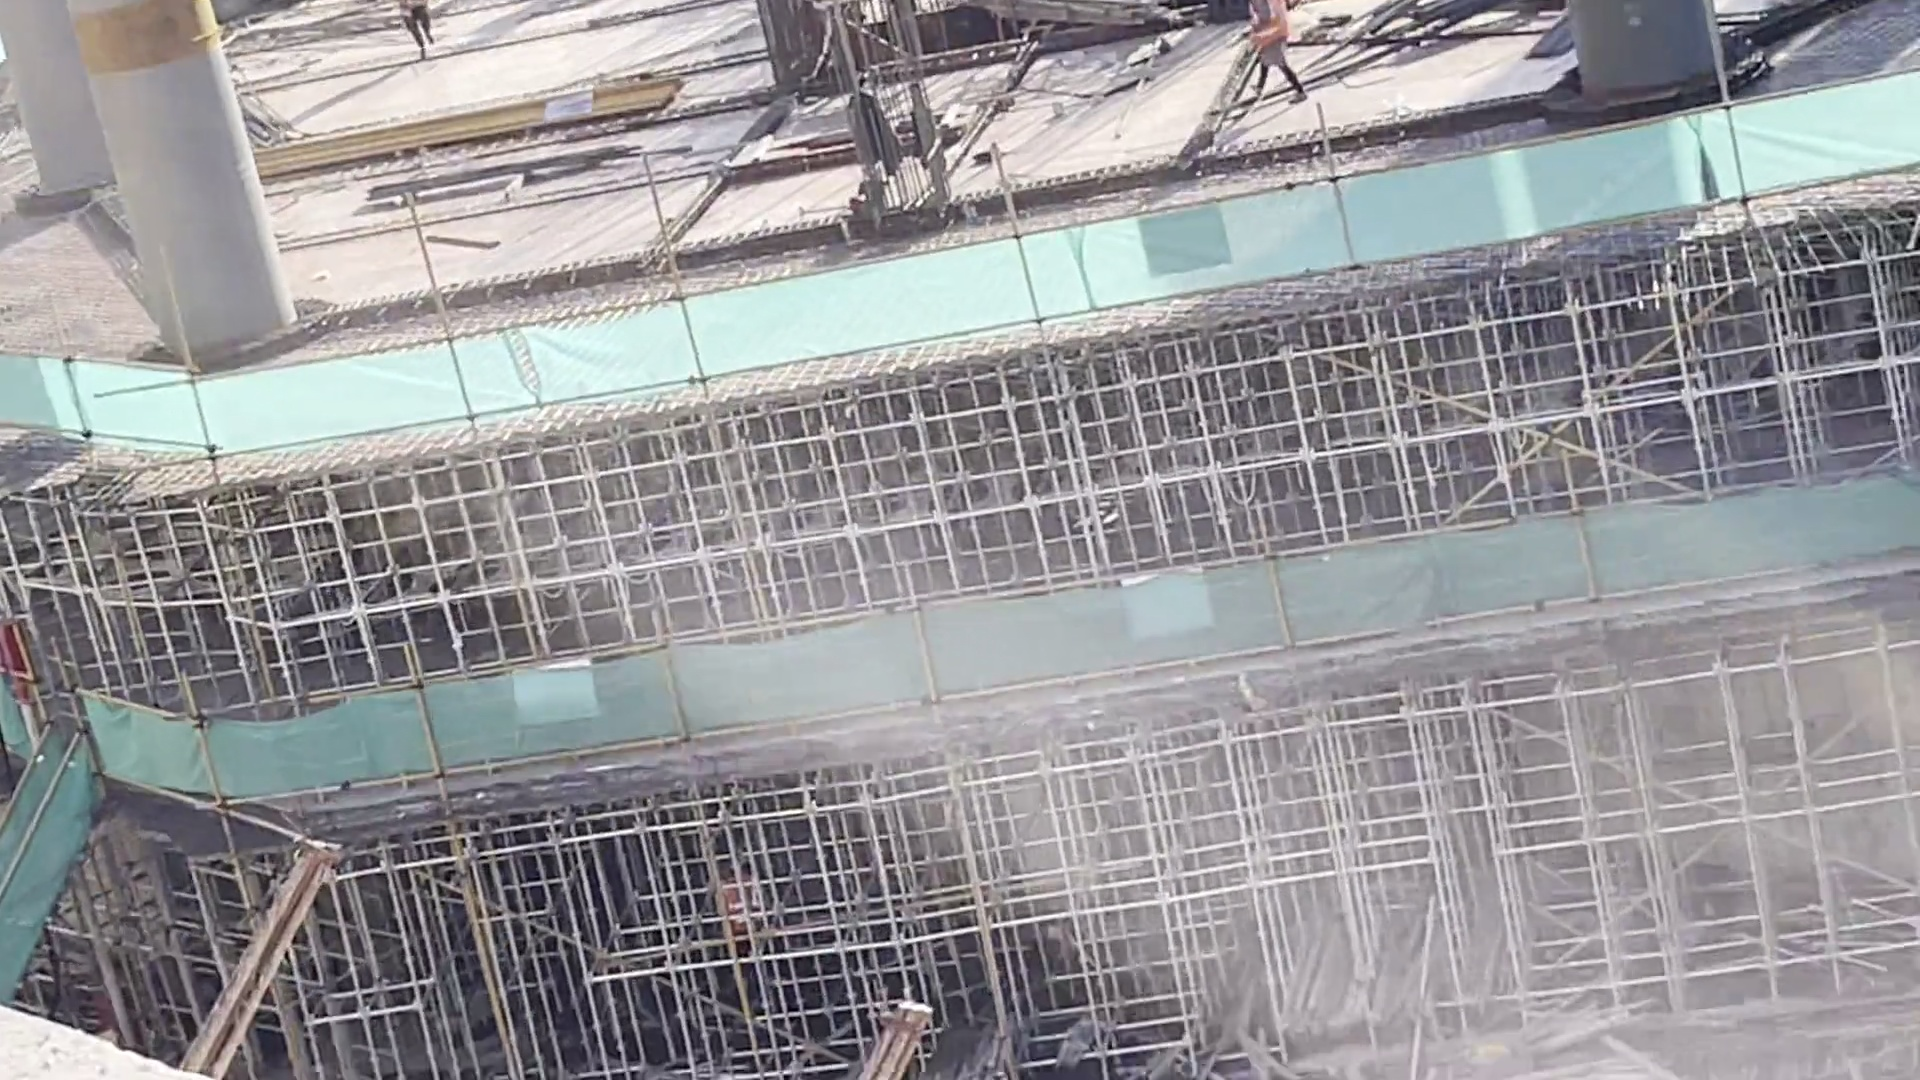person: (700, 854, 775, 1008), (1231, 1, 1313, 100), (393, 1, 438, 54)
vest: (1239, 1, 1296, 48), (717, 890, 762, 940)
